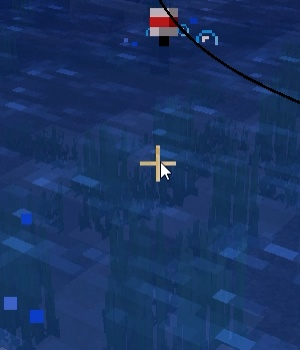up: (140, 2, 187, 62)
